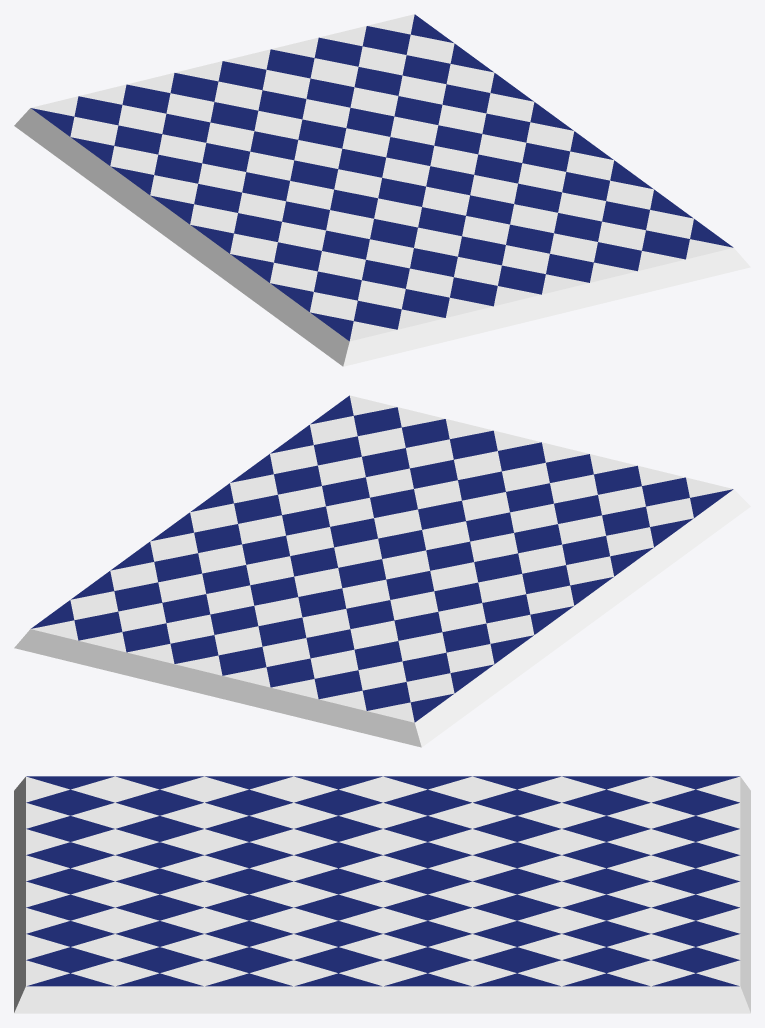
Rendered from cardhearts02.obj.
3 views of the same model, one above another, from view 1: azimuth 30°, elevation 25°; view 2: azimuth 150°, elevation 25°; view 3: azimuth 270°, elevation 25° (orthographic). The views are drawn at different scales.
Parts seen in each view (by area): view 1: Cube; view 2: Cube; view 3: Cube.
Part boxes in pixels (bbox=[...]): Cube: bbox=[14, 14, 750, 366]; Cube: bbox=[14, 395, 750, 747]; Cube: bbox=[14, 776, 750, 1013].
Size of the model in its own units: 0.0635 by 0.00295 by 0.0888.
